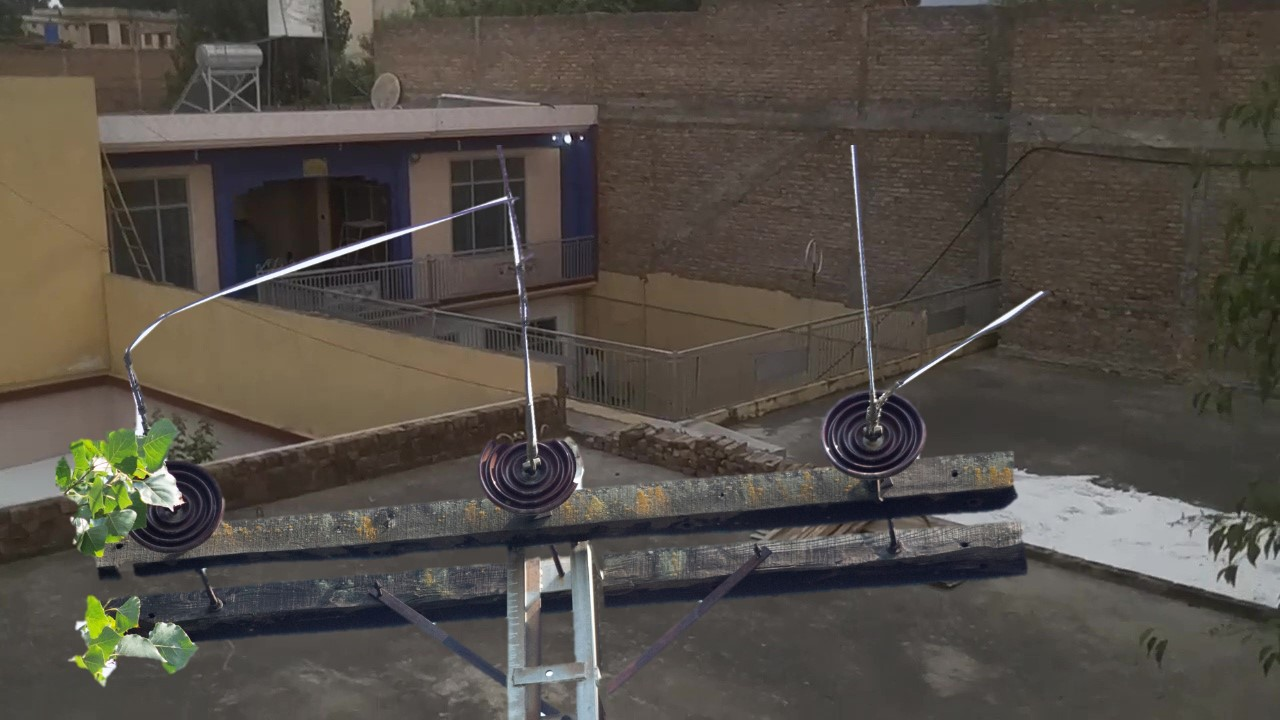defect_disc: (472, 422, 591, 516)
insulator_disc: (819, 386, 930, 481), (132, 456, 227, 563)
